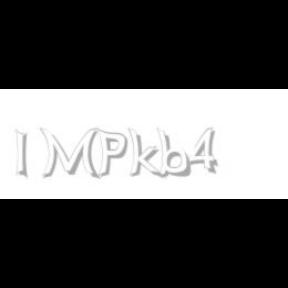4: (188, 128, 218, 174)
I: (16, 128, 29, 180)
M: (40, 128, 98, 180)
P: (96, 128, 128, 178)
b: (156, 128, 194, 178)
k: (127, 128, 165, 180)
